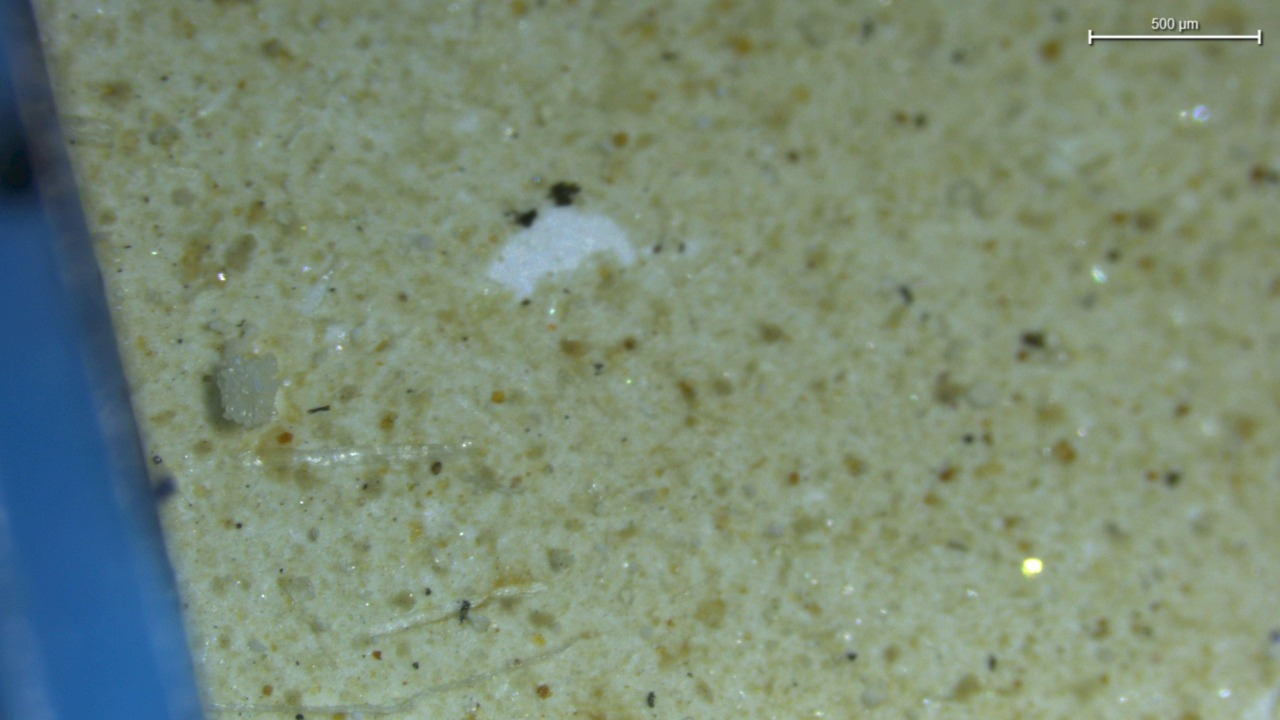microplastic_fragment: (215, 339, 279, 427)
